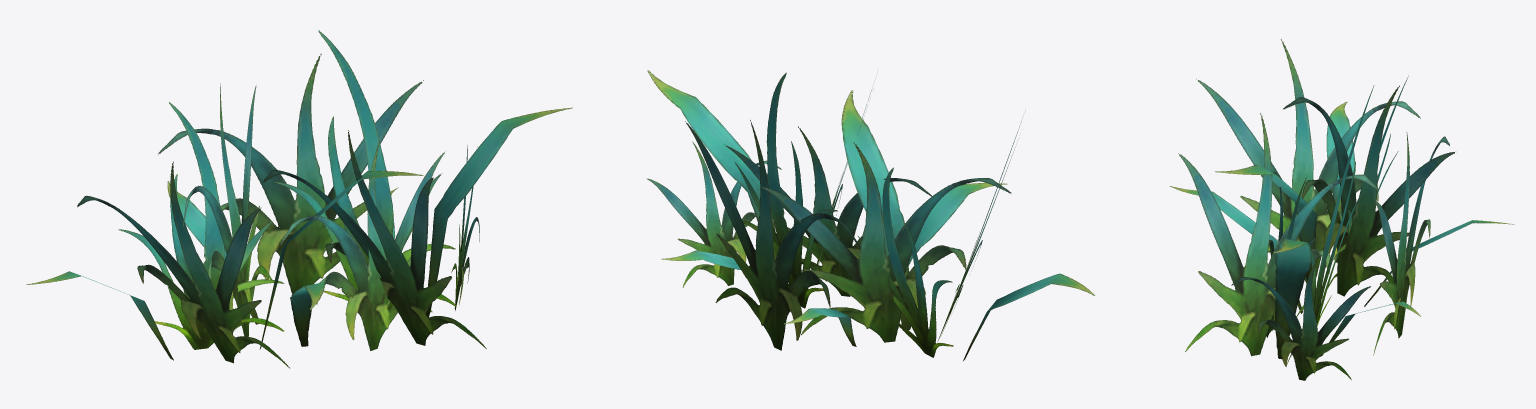
File: fb_qqs_gm_05.FBX
The picture shows the model from 3 angles, left to right: view 1: azimuth 30°, elevation 25°; view 2: azimuth 150°, elevation 25°; view 3: azimuth 270°, elevation 25°; orthographic projection. The views are drawn at different scales.
Visible parts, largest first — view 1: fb_qqs_gm_05; view 2: fb_qqs_gm_05; view 3: fb_qqs_gm_05.
Part boxes in pixels (x1,y1,x2,y2): fb_qqs_gm_05: [26, 30, 572, 368]; fb_qqs_gm_05: [646, 70, 1094, 360]; fb_qqs_gm_05: [1169, 39, 1514, 380].
Size of the model in its own units: 210 by 111 by 142.
